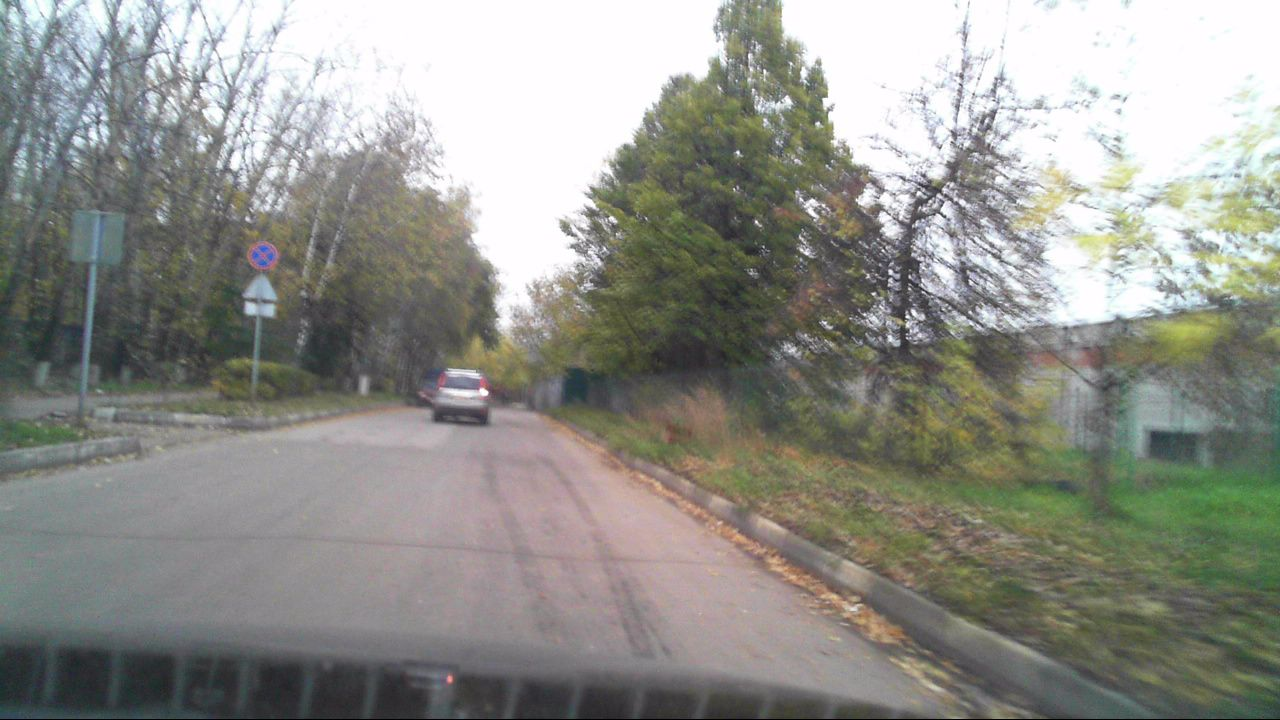No Parking: (246, 241, 278, 272)
